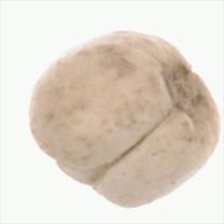L3: (45, 151, 102, 195)
L4: (28, 32, 220, 208)
